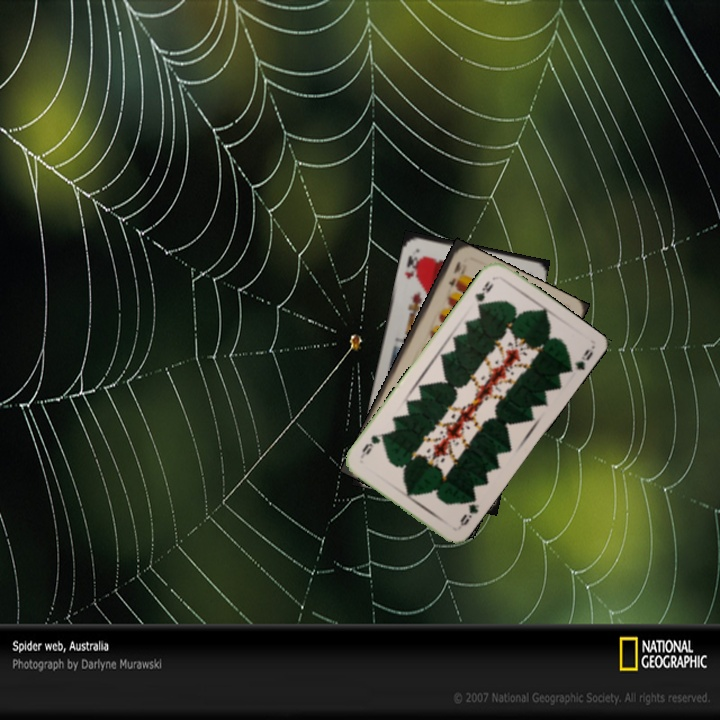E10: (444, 257, 463, 290)
G9: (456, 493, 482, 529), (471, 276, 496, 311)
HK: (400, 251, 422, 281)
